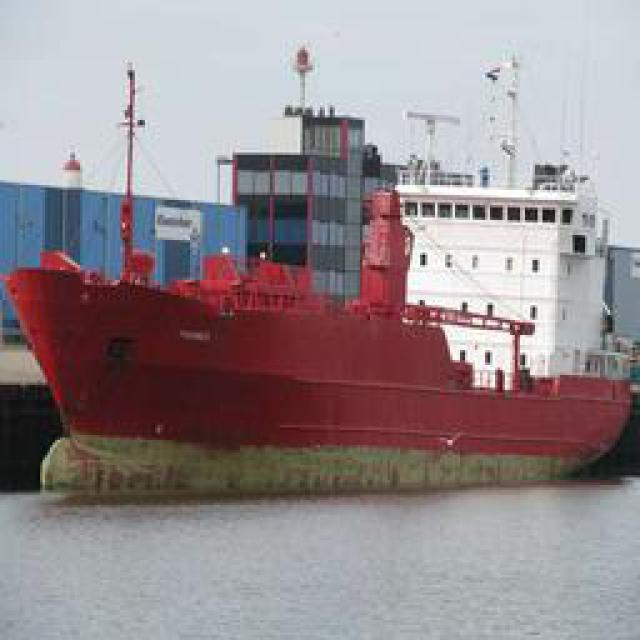Ship: (5, 174, 635, 494)
